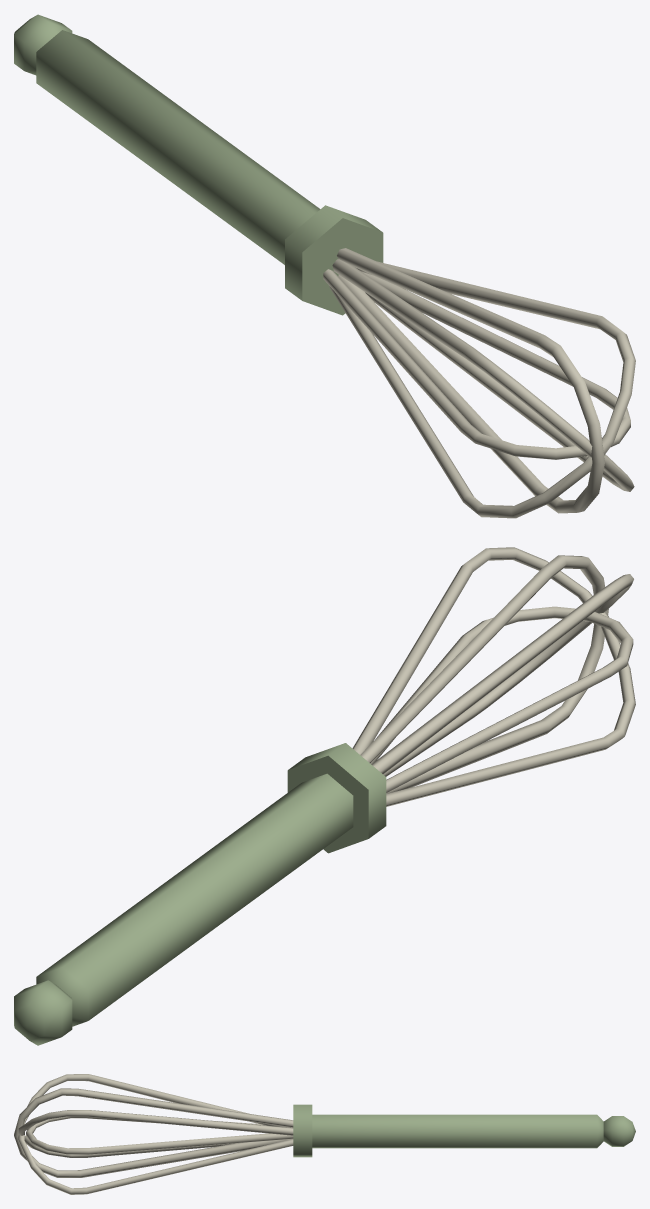
Rendered from EggBeater_01.fbx.
The picture shows the model from 3 angles, top to bottom: view 1: azimuth 30°, elevation 25°; view 2: azimuth 150°, elevation 25°; view 3: azimuth 270°, elevation 25°; orthographic projection. The views are drawn at different scales.
Visible parts, largest first — view 1: EggBeater_01; view 2: EggBeater_01; view 3: EggBeater_01.
Boxes of the visible parts, box(x1,y1,x2,y2) form: EggBeater_01: box(14, 14, 635, 518); EggBeater_01: box(14, 547, 635, 1045); EggBeater_01: box(14, 1074, 635, 1194).
Size of the model in its own units: 0.05 by 0.0526 by 0.3358.
